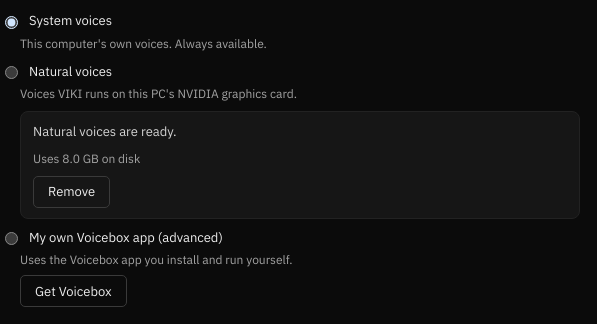
Scenario: Remove shows an inline confirm naming the download size, then removes
The image size is (597, 324).
Later steps or results of the test are not shown.
Click the button "Remove".
click(72, 192)  # box [33, 176, 110, 208]
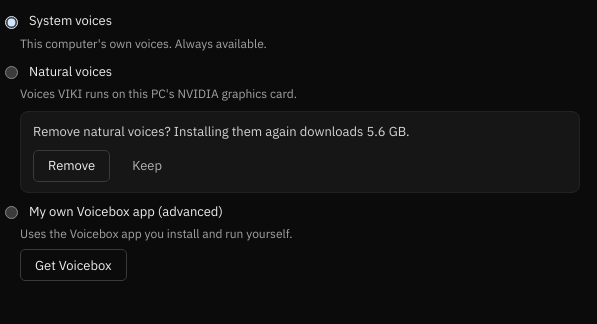
Check: the message reads "Remove natural voices? Installing them again downloads 5.6 GB.", box [33, 123, 410, 140]
